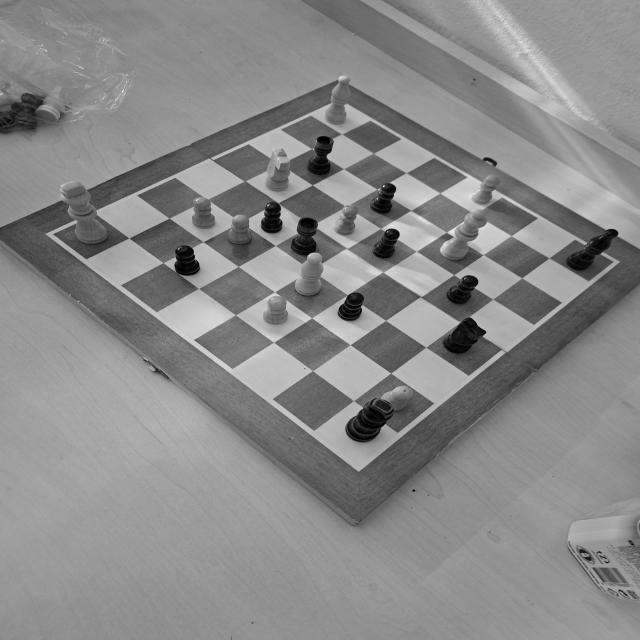chess-table-corners: (344, 454, 372, 474), (40, 226, 68, 243), (326, 96, 352, 112), (602, 255, 624, 270)
